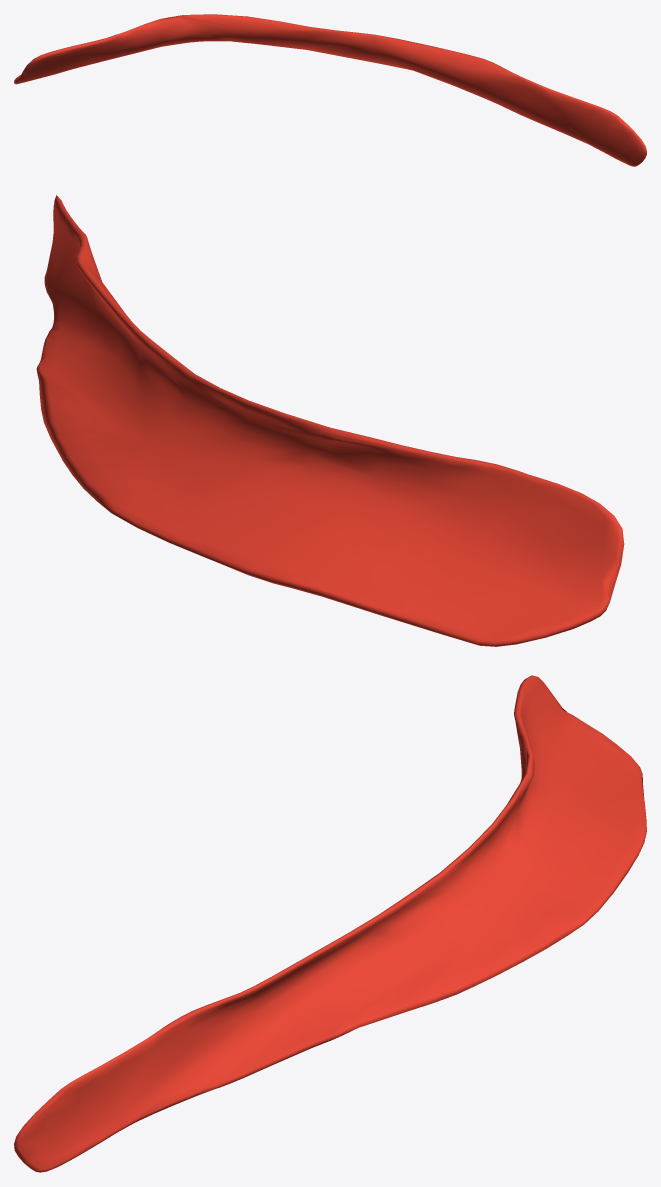
File: Clavicular_part_of_deltoid_muscle-Clavicular_insertion.r_Cone.0.glb
3 views of the same model, one above another, from view 1: azimuth 30°, elevation 25°; view 2: azimuth 150°, elevation 25°; view 3: azimuth 270°, elevation 25° (orthographic). The views are drawn at different scales.
Parts seen in each view (by area): view 1: Clavicular_part_of_deltoid_muscle-Clavicular_insertion.r_Con; view 2: Clavicular_part_of_deltoid_muscle-Clavicular_insertion.r_Con; view 3: Clavicular_part_of_deltoid_muscle-Clavicular_insertion.r_Con.
Part boxes in pixels (left/top/right/bottom): Clavicular_part_of_deltoid_muscle-Clavicular_insertion.r_Con: left=14, top=14, right=646, bottom=166; Clavicular_part_of_deltoid_muscle-Clavicular_insertion.r_Con: left=36, top=195, right=624, bottom=646; Clavicular_part_of_deltoid_muscle-Clavicular_insertion.r_Con: left=14, top=675, right=646, bottom=1172.
Size of the model in its own units: 0.0552 by 0.0129 by 0.0425.
